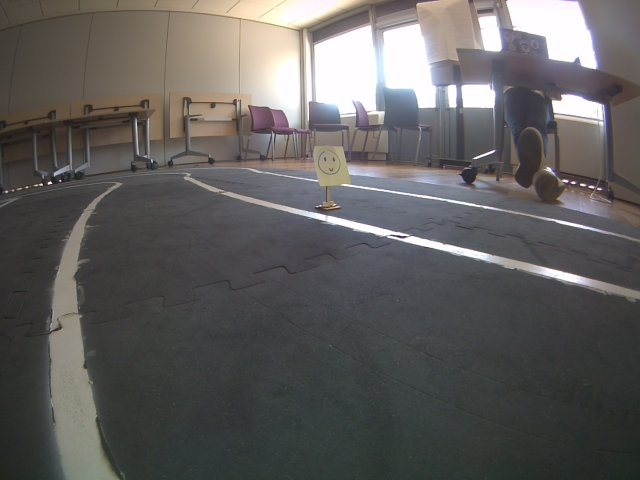Smiley: (310, 144, 354, 188)
